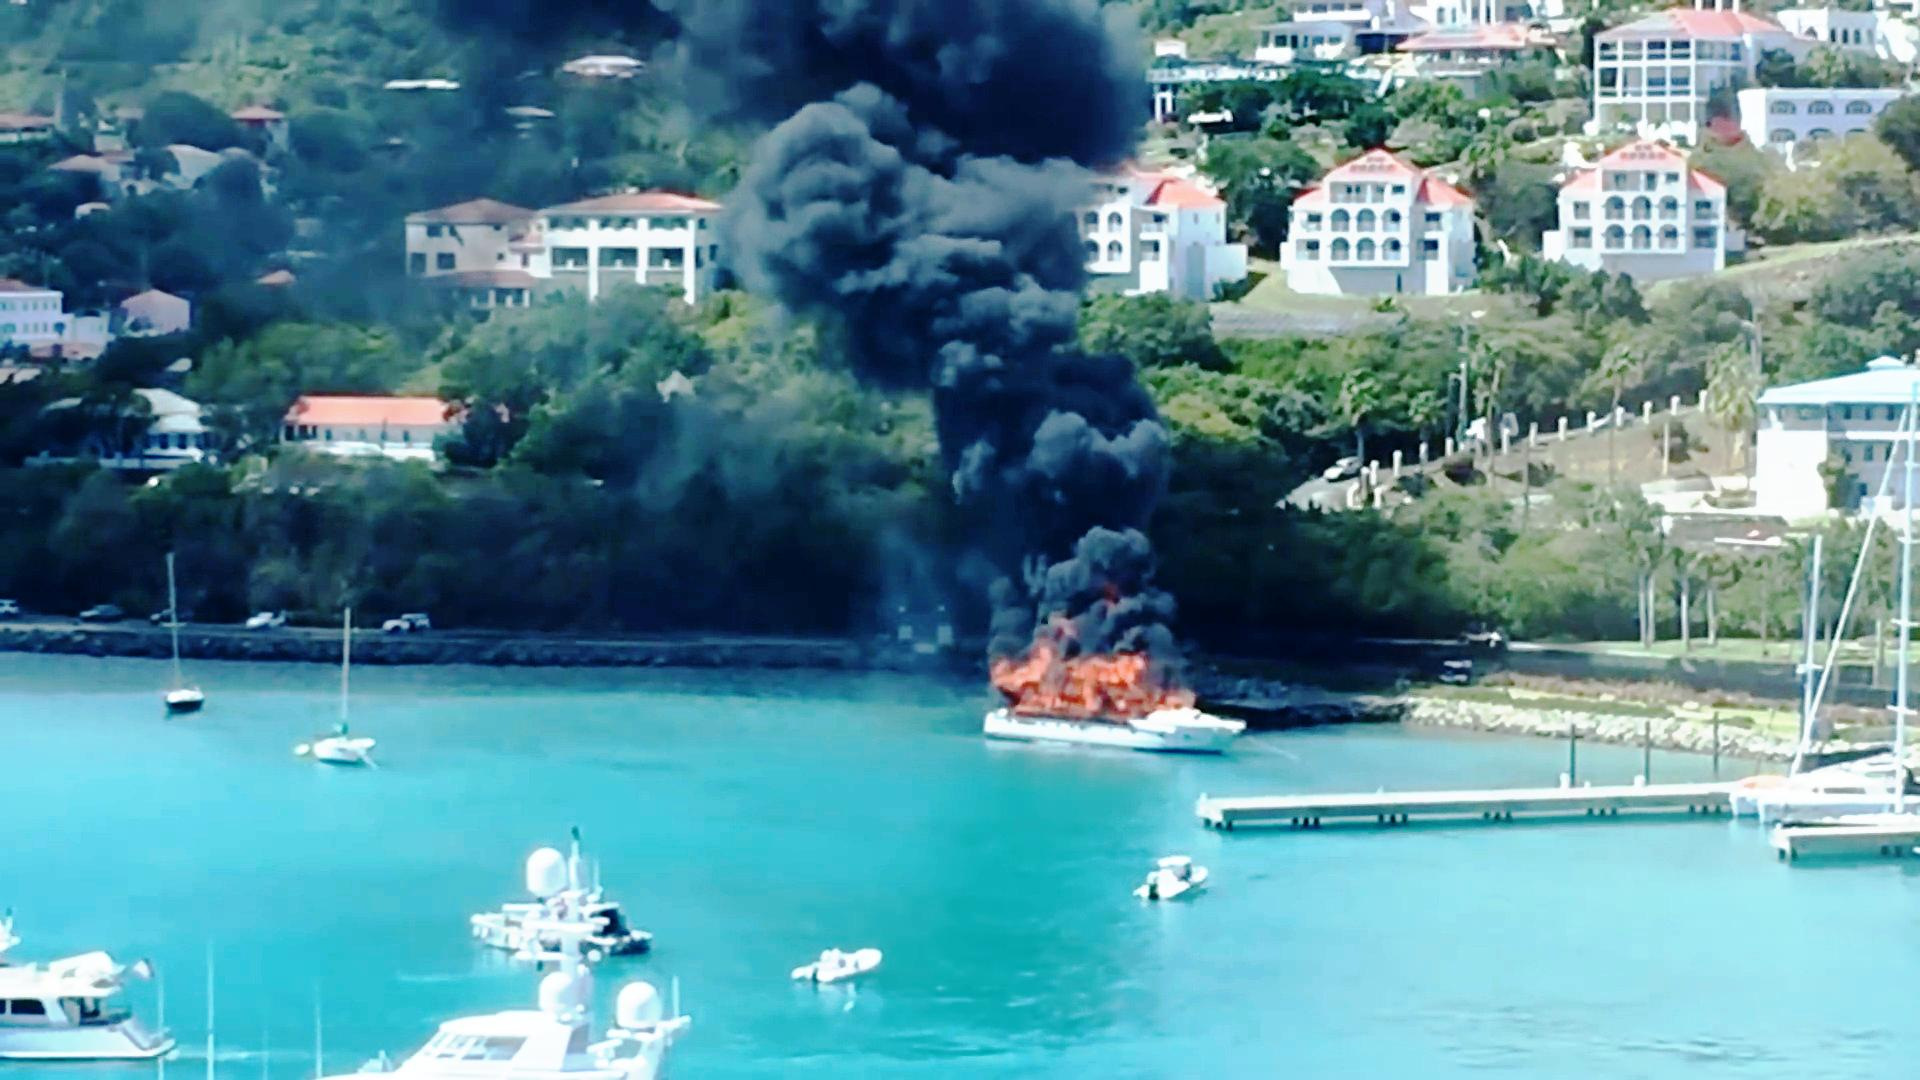smoke: (806, 0, 1156, 313), (963, 315, 1168, 625), (982, 621, 1188, 705)
